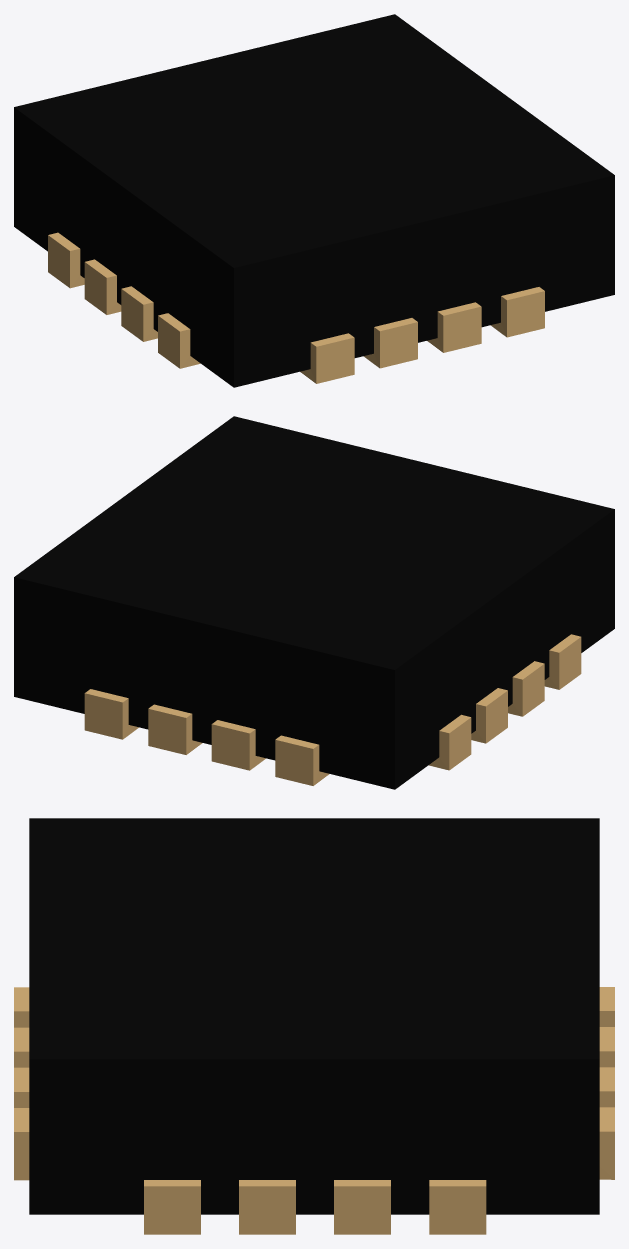
File: QFN16-3X3MM_1_1_V03.dae
The picture shows the model from 3 angles, top to bottom: view 1: azimuth 30°, elevation 25°; view 2: azimuth 150°, elevation 25°; view 3: azimuth 270°, elevation 25°; orthographic projection. The views are drawn at different scales.
Visible parts, largest first — view 1: QFN16-3X3MM_1_1_V03; view 2: QFN16-3X3MM_1_1_V03; view 3: QFN16-3X3MM_1_1_V03.
Part boxes in pixels (box(x1,y1,x2,y2)): QFN16-3X3MM_1_1_V03: box(14, 14, 614, 387); QFN16-3X3MM_1_1_V03: box(14, 416, 614, 789); QFN16-3X3MM_1_1_V03: box(14, 818, 614, 1234).
Size of the model in its own units: 3.16 by 3.16 by 0.98.
